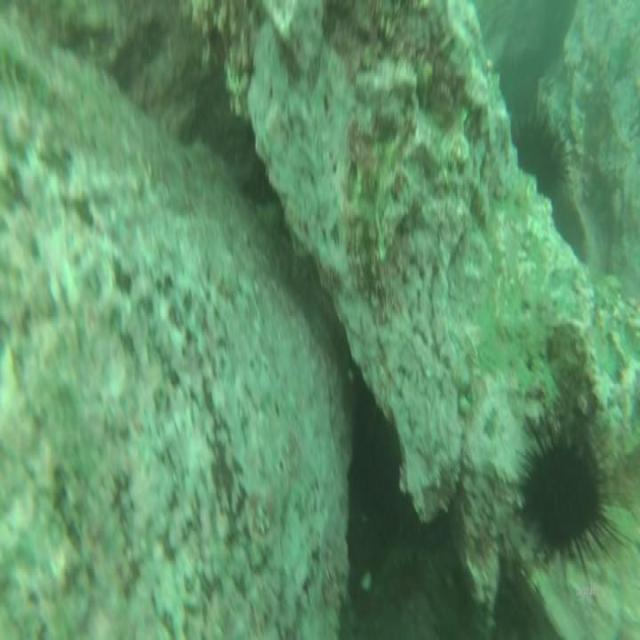echinus: (525, 444, 603, 553), (513, 116, 565, 194)
